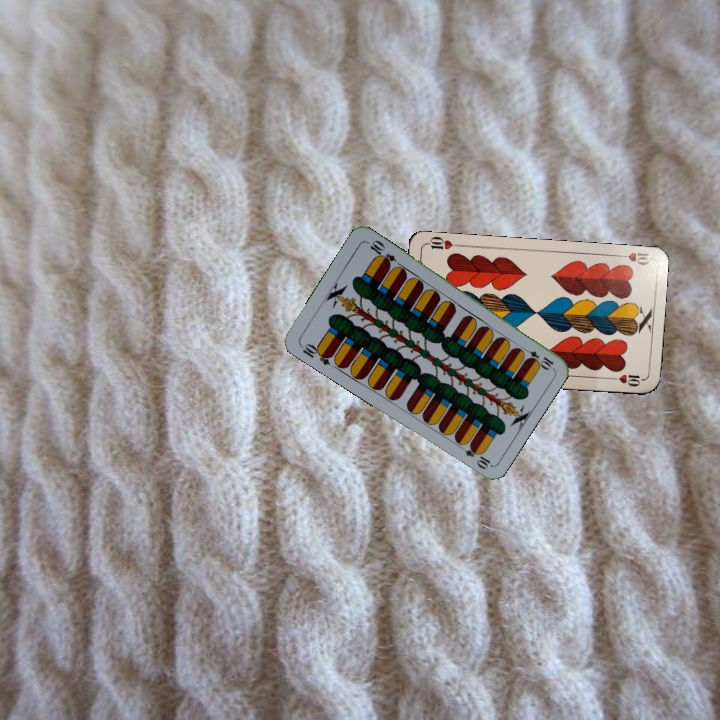E10: (296, 339, 335, 368), (518, 344, 556, 372)
H10: (612, 248, 652, 268)
